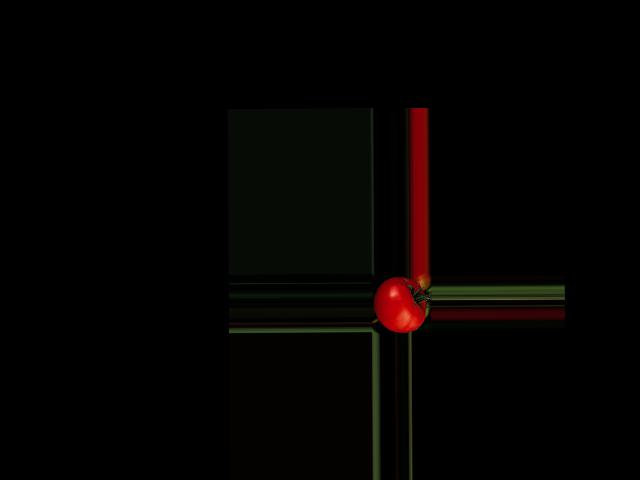tomato: (373, 277, 426, 333)
